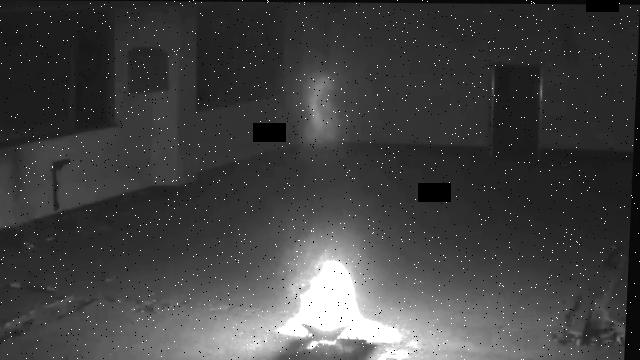fire: (297, 260, 367, 326)
smoke: (291, 70, 348, 148)
